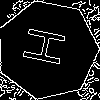H: (22, 25, 76, 70)
